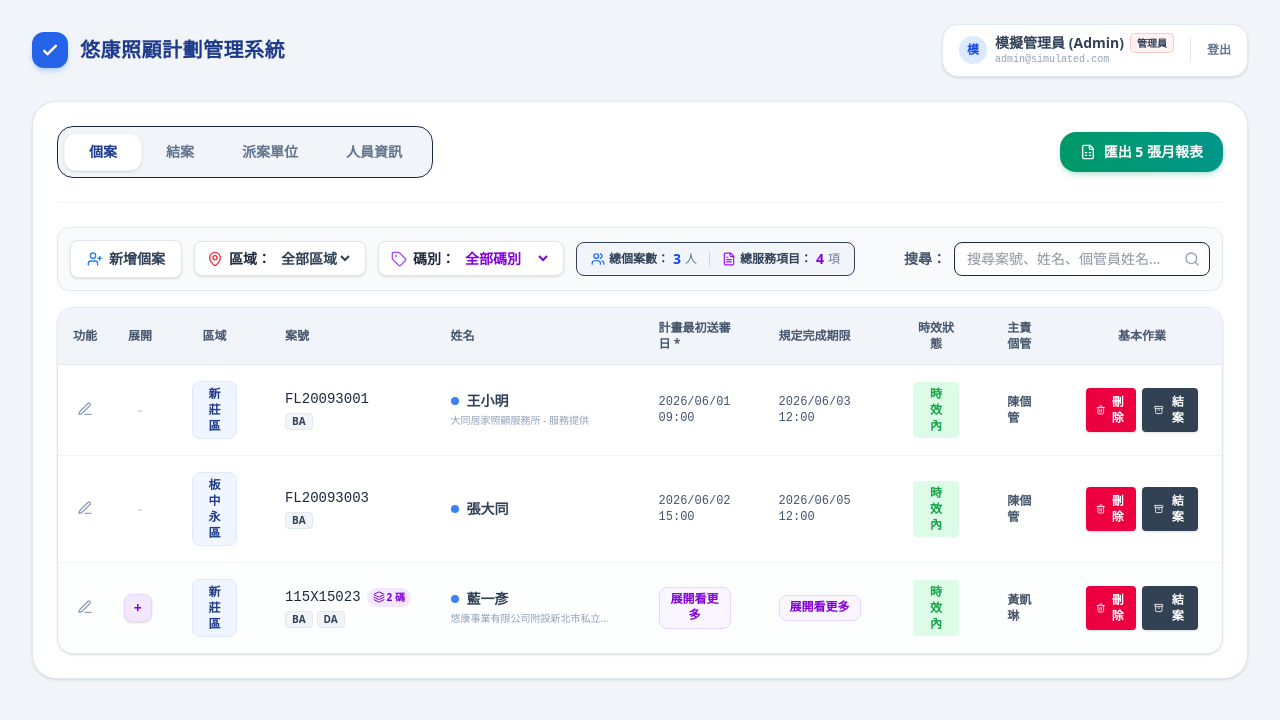
Scenario: App View Management & Searching › should switch between tabs correctly
Expected: the button "新增個案" is shown, [70,240,182,278]
Note: 點擊「結案」頁籤 (精確匹配，避免匹配到表格內「結案歸檔」按鈕)
Click the 1st button "結案" at (180, 152), box [142,133,218,171]
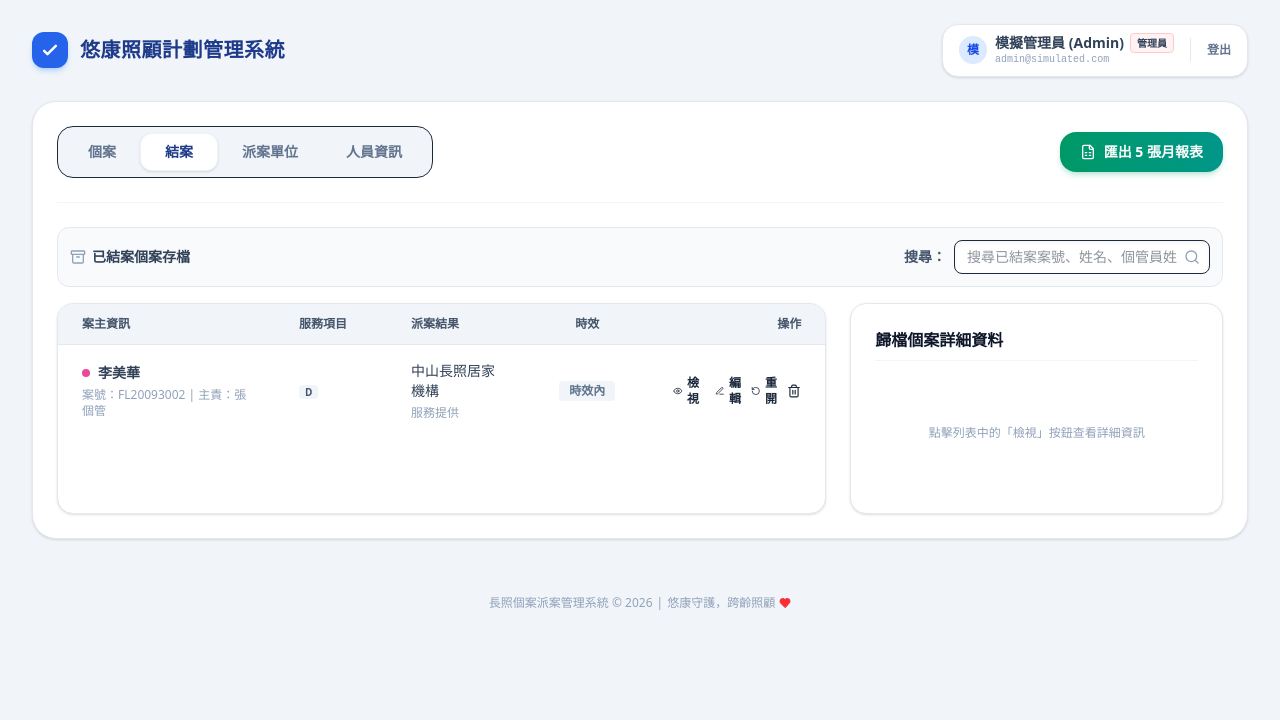
Expected: the heading "歸檔個案詳細資料" is shown, [875,328,1003,352]
Expected: the button "新增個案" is gone
